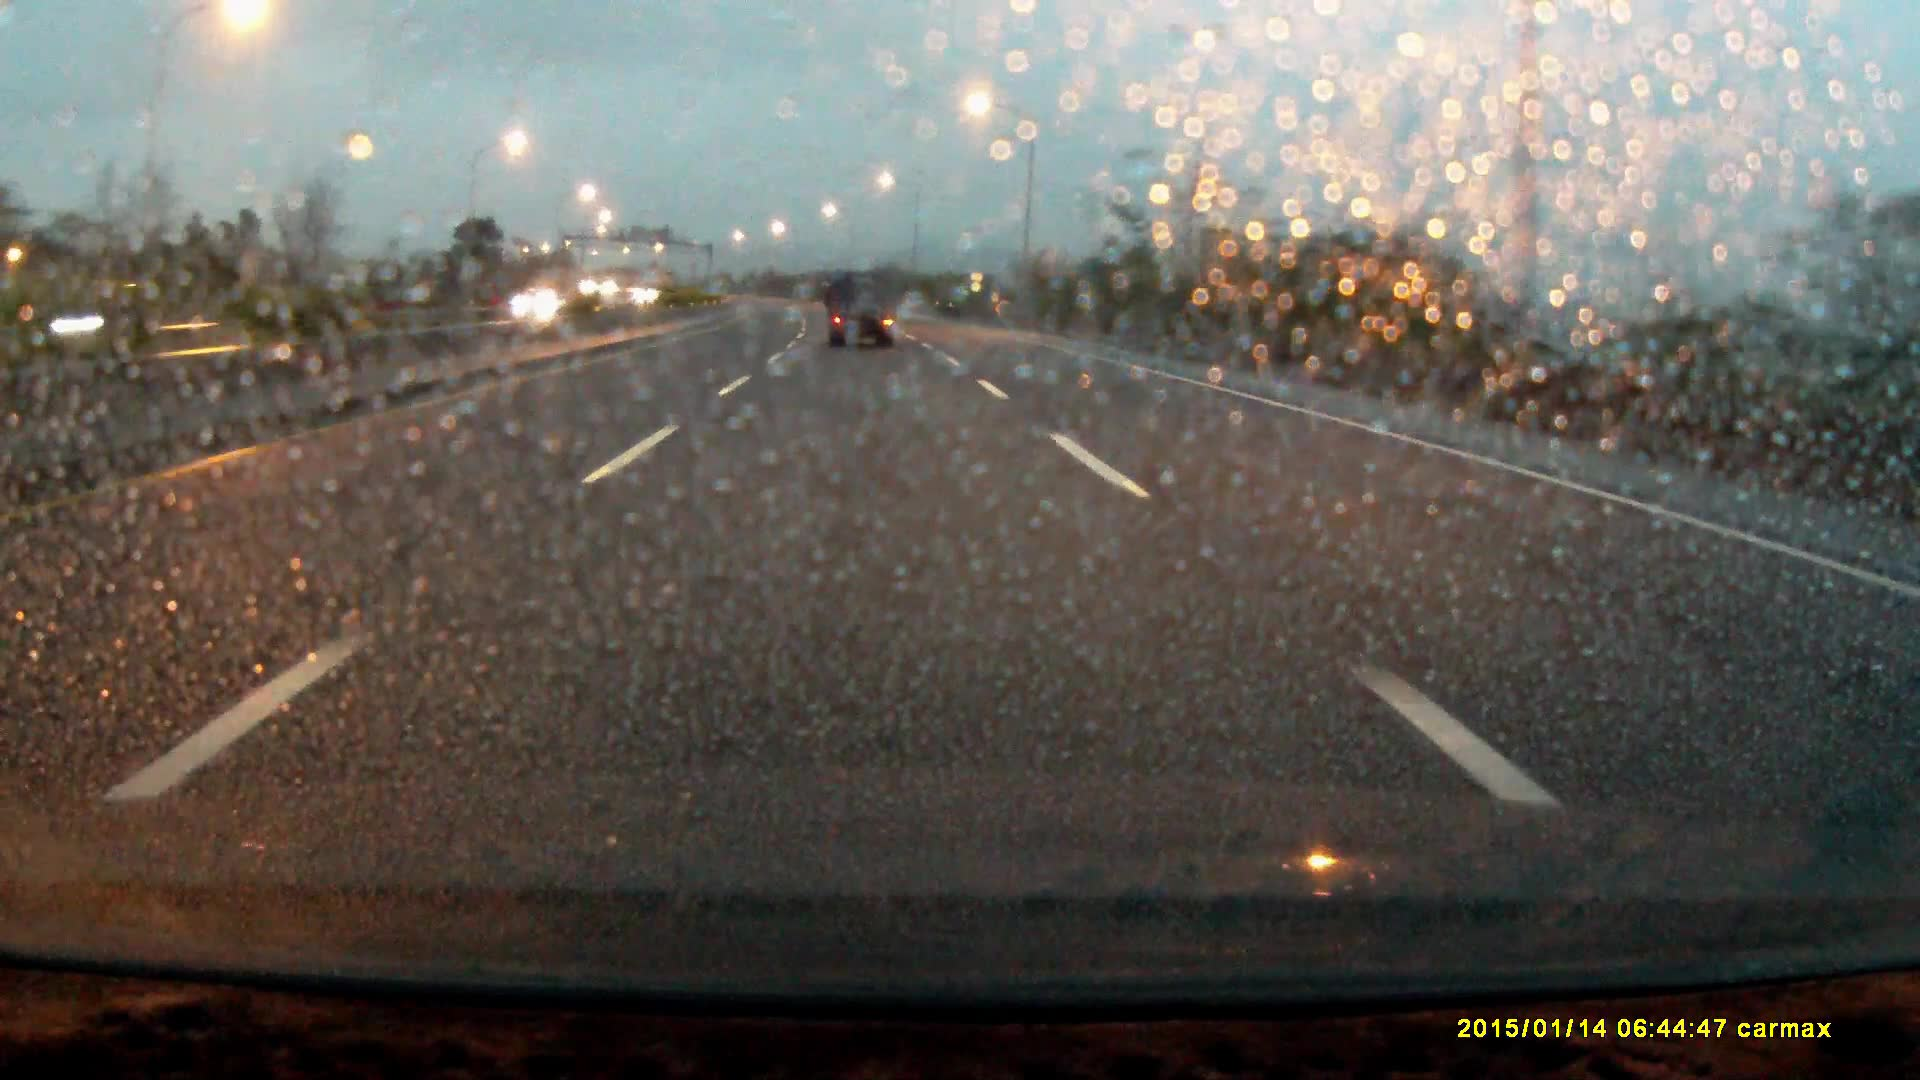vehicle: (829, 276, 895, 351), (513, 287, 580, 320)
